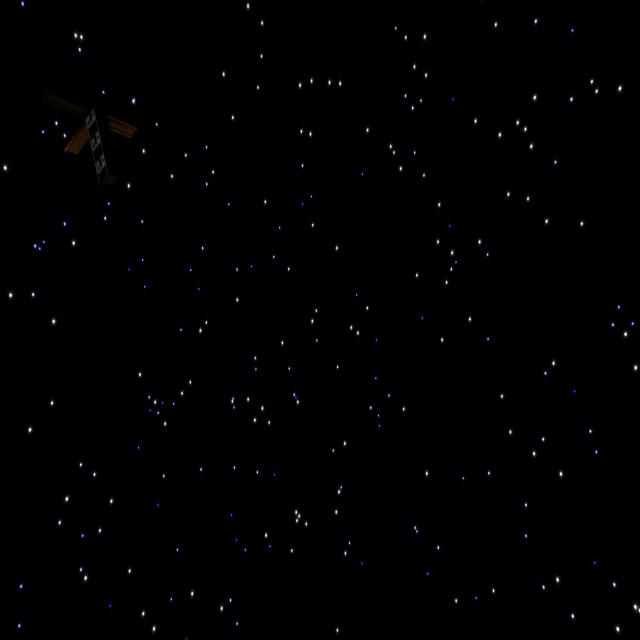medium_debris: (61, 106, 146, 180)
